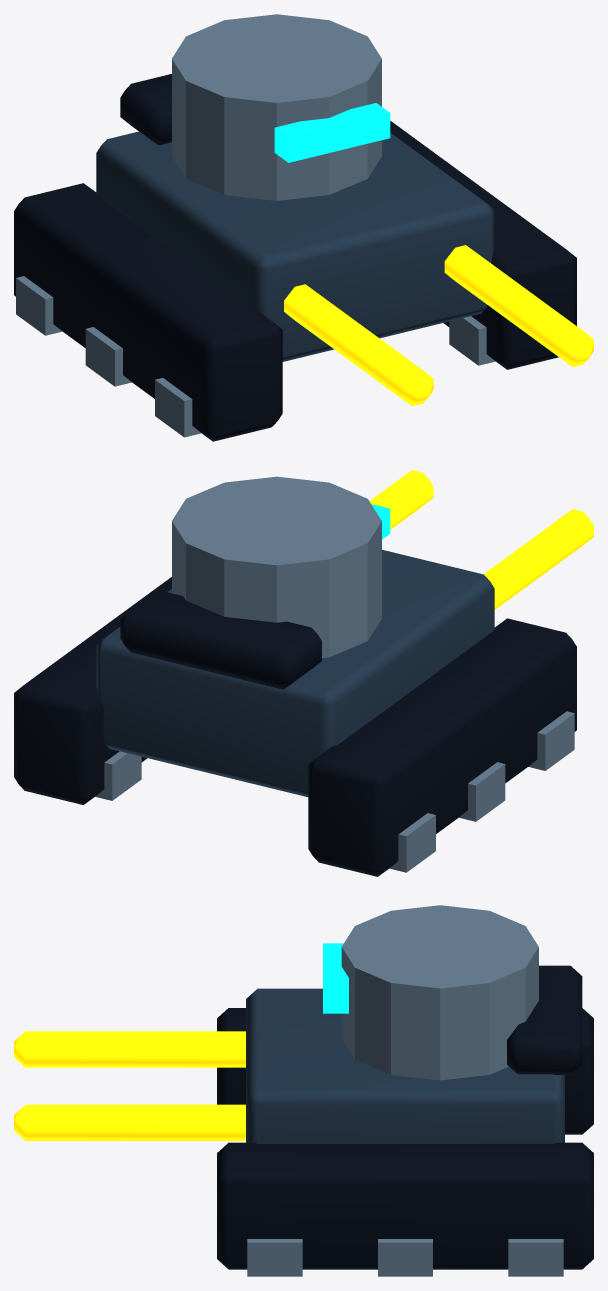
Rendered from worker.glb.
3 views of the same model, one above another, from view 1: azimuth 30°, elevation 25°; view 2: azimuth 150°, elevation 25°; view 3: azimuth 270°, elevation 25° (orthographic). The views are drawn at different scales.
Parts seen in each view (by area): view 1: Crawler chassis, Track housing, Tool turret, Track housing.001, Salvage fork, Salvage fork.001, Optics, Cargo rack, Track tread.001, Track tread.002, Track tread, Track tread.005; view 2: Crawler chassis, Track housing, Tool turret, Track housing.001, Cargo rack, Salvage fork, Salvage fork.001, Track tread.001, Track tread, Track tread.002, Track tread.003; view 3: Track housing.001, Crawler chassis, Tool turret, Salvage fork, Salvage fork.001, Cargo rack, Track housing, Track tread.003, Track tread.005, Track tread.004, Optics.
Part boxes in pixels (bbox=[...]): Crawler chassis: bbox=[96, 131, 494, 361]; Track housing: bbox=[14, 183, 282, 441]; Tool turret: bbox=[172, 14, 381, 200]; Track housing.001: bbox=[390, 121, 576, 369]; Salvage fork: bbox=[284, 284, 433, 406]; Salvage fork.001: bbox=[444, 245, 593, 366]; Optics: bbox=[274, 103, 390, 162]; Cargo rack: bbox=[120, 74, 171, 145]; Track tread.001: bbox=[85, 327, 131, 386]; Track tread.002: bbox=[155, 378, 201, 437]; Track tread: bbox=[16, 276, 62, 335]; Track tread.005: bbox=[449, 316, 495, 365]; Crawler chassis: bbox=[96, 549, 494, 797]; Track housing: bbox=[308, 618, 576, 876]; Tool turret: bbox=[172, 476, 381, 658]; Track housing.001: bbox=[14, 577, 171, 804]; Cargo rack: bbox=[120, 590, 321, 689]; Salvage fork: bbox=[483, 509, 593, 609]; Salvage fork.001: bbox=[369, 470, 433, 529]; Track tread.001: bbox=[459, 762, 505, 821]; Track tread: bbox=[389, 813, 435, 872]; Track tread.002: bbox=[528, 711, 574, 770]; Track tread.003: bbox=[95, 751, 141, 800]; Track housing.001: bbox=[217, 1142, 593, 1269]; Crawler chassis: bbox=[246, 988, 564, 1143]; Tool turret: bbox=[341, 905, 538, 1080]; Salvage fork: bbox=[14, 1031, 245, 1067]; Salvage fork.001: bbox=[14, 1104, 245, 1140]; Cargo rack: bbox=[507, 965, 582, 1074]; Track housing: bbox=[217, 1008, 593, 1134]; Track tread.003: bbox=[508, 1239, 563, 1276]; Track tread.005: bbox=[247, 1239, 302, 1276]; Track tread.004: bbox=[378, 1239, 432, 1276]; Optics: bbox=[323, 943, 348, 1013].
Size of the model in its own units: 1.46 by 0.92 by 2.
